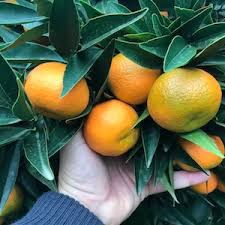orange: (148, 70, 222, 132), (23, 60, 91, 120), (86, 101, 143, 157), (106, 51, 164, 104), (172, 134, 225, 172)
